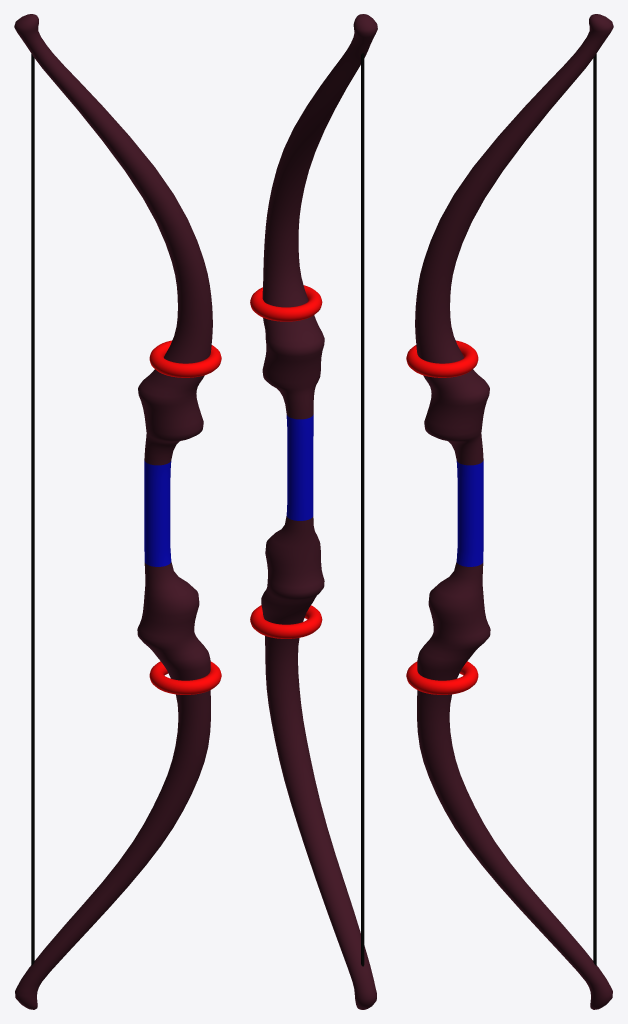
File: Bow.fbx
3 renders of one model, left to right at view 1: azimuth 90°, elevation 25°; view 2: azimuth 210°, elevation 25°; view 3: azimuth 270°, elevation 25°, orthographic.
Parts seen in each view (by area): view 1: Cylinder, Cylinder.001, Torus, Torus.001; view 2: Cylinder, Cylinder.001, Torus, Torus.001; view 3: Cylinder, Cylinder.001, Torus, Torus.001.
Part boxes in pixels (x1,y1,x2,y2): Cylinder: [14, 14, 212, 1009]; Cylinder.001: [31, 54, 34, 965]; Torus: [149, 340, 221, 377]; Torus.001: [149, 661, 221, 694]; Cylinder: [261, 14, 377, 1009]; Cylinder.001: [361, 53, 364, 966]; Torus: [250, 285, 322, 321]; Torus.001: [250, 605, 322, 638]; Cylinder: [415, 14, 613, 1009]; Cylinder.001: [593, 54, 596, 965]; Torus: [406, 340, 478, 377]; Torus.001: [406, 661, 478, 694].
Bounding box in the file's own units: 77.97 × 1186 × 224.
